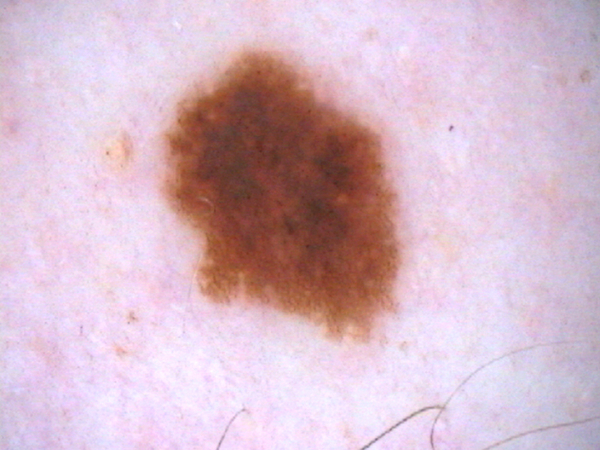Detected Lesion: (161, 44, 402, 347)
